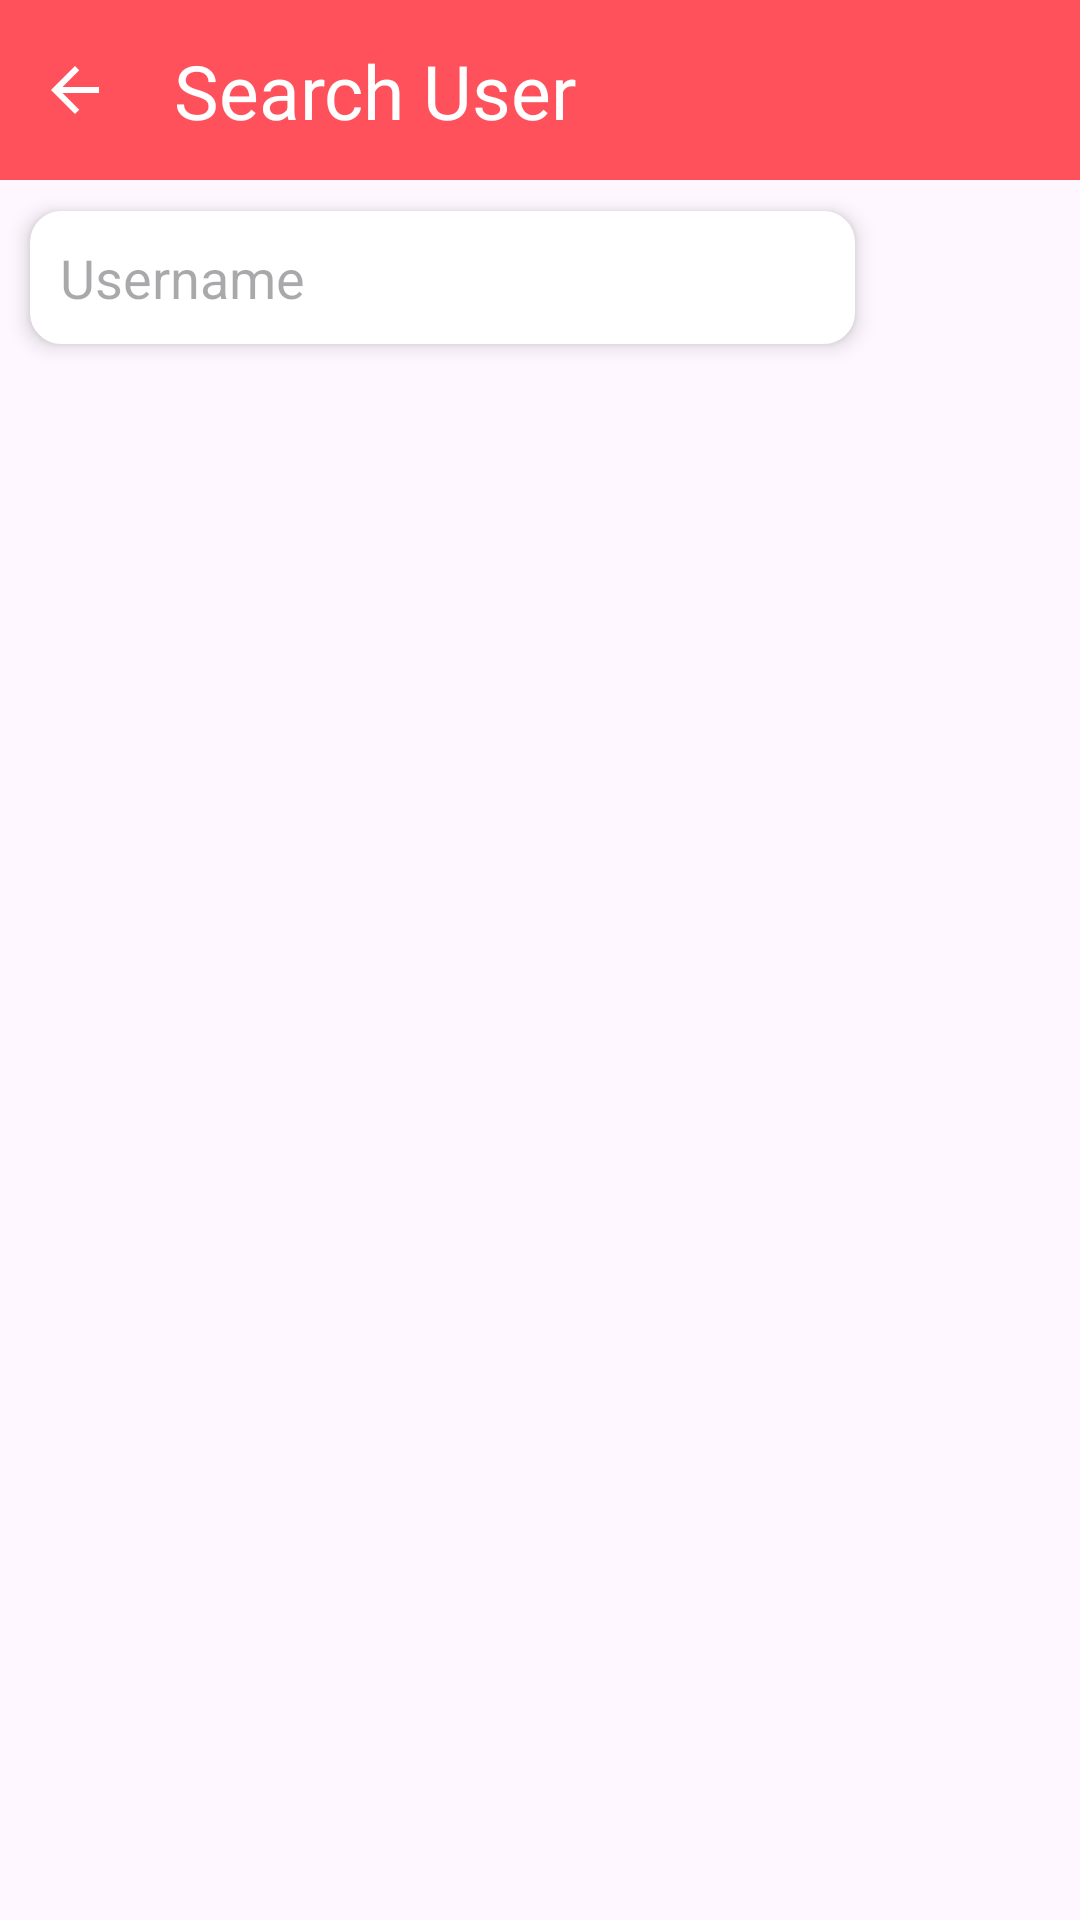

Icons on this 1080*1920 Android screen, each with the point to tap as [x,y]:
arrowback: [75,90]
